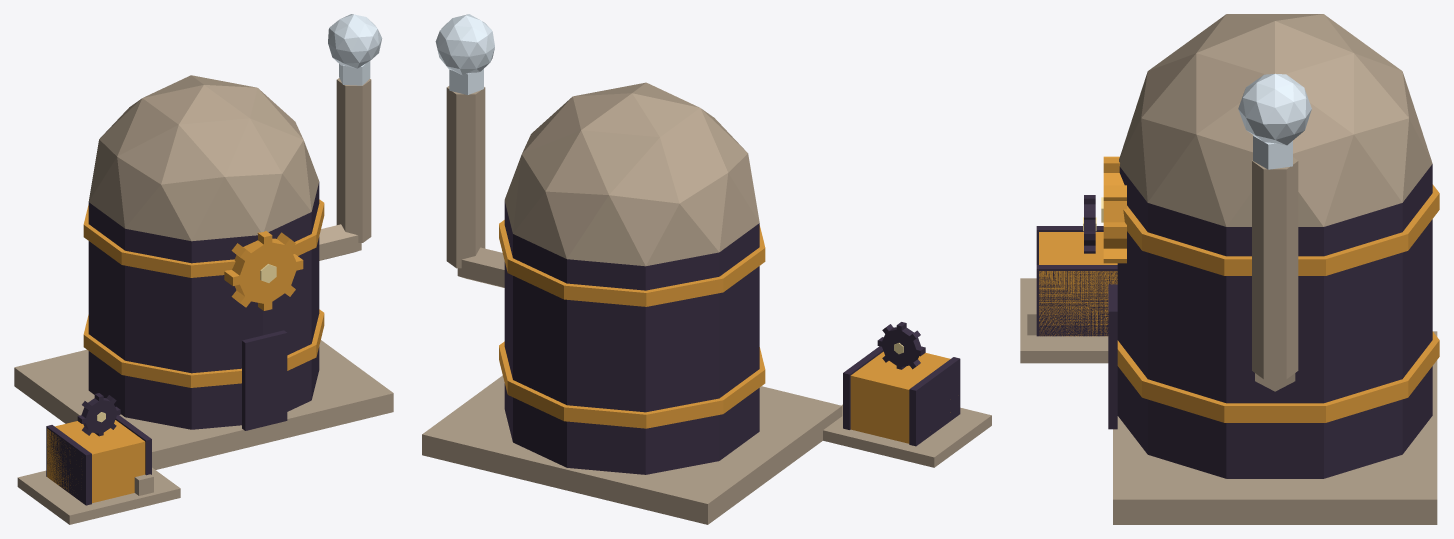
The model's file is factory-landmark-s2c.glb.
3 views of the same model, side by side, from view 1: azimuth 30°, elevation 25°; view 2: azimuth 150°, elevation 25°; view 3: azimuth 270°, elevation 25° (orthographic). The views are drawn at different scales.
Visible parts, largest first — view 1: factory-landmark-s2c; view 2: factory-landmark-s2c; view 3: factory-landmark-s2c.
Part boxes in pixels (x1,y1,x2,y2): factory-landmark-s2c: [14, 14, 393, 524]; factory-landmark-s2c: [422, 14, 991, 524]; factory-landmark-s2c: [1020, 14, 1439, 524].
Bounding box in the file's own units: 1.34 × 1.11 × 0.905.
